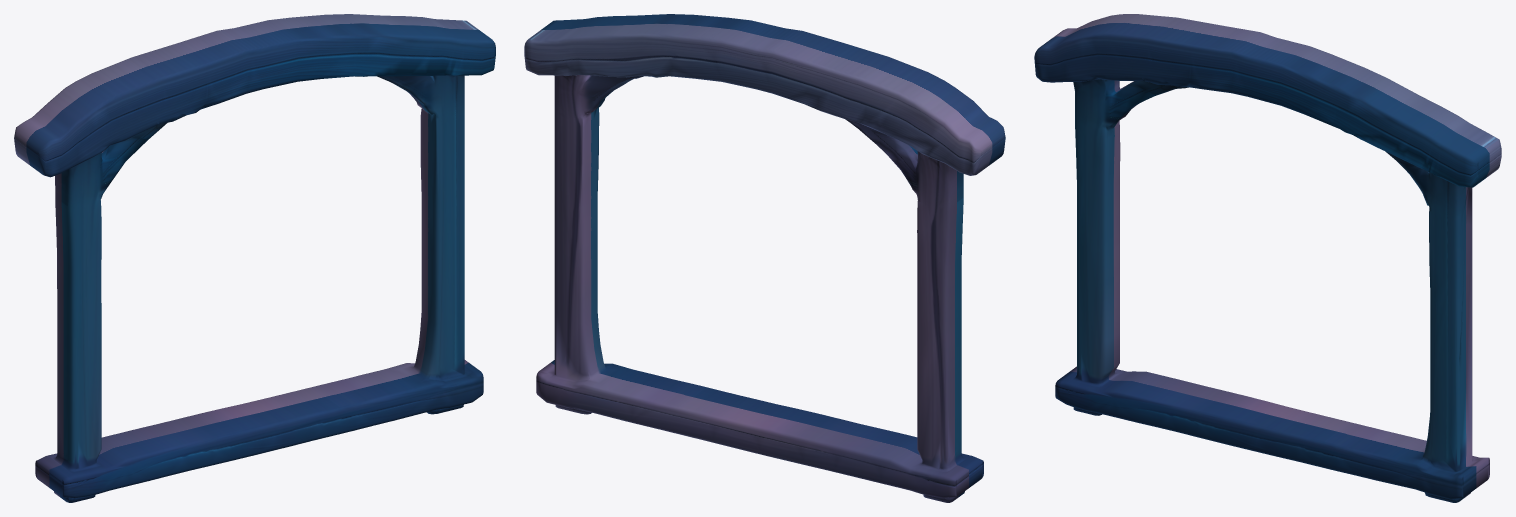
The model's file is env_shop_window_square.fbx.
3 views of the same model, side by side, from view 1: azimuth 30°, elevation 25°; view 2: azimuth 150°, elevation 25°; view 3: azimuth 330°, elevation 25° (orthographic). The views are drawn at different scales.
Parts seen in each view (by area): view 1: env_shop_window_square; view 2: env_shop_window_square; view 3: env_shop_window_square.
Boxes of the visible parts, bbox=[...] form: env_shop_window_square: bbox=[14, 14, 495, 502]; env_shop_window_square: bbox=[524, 14, 1005, 502]; env_shop_window_square: bbox=[1034, 14, 1501, 502].
Size of the model in its own units: 2.37 by 2.06 by 0.2904.
Materials: 1 (1 with a texture image).
